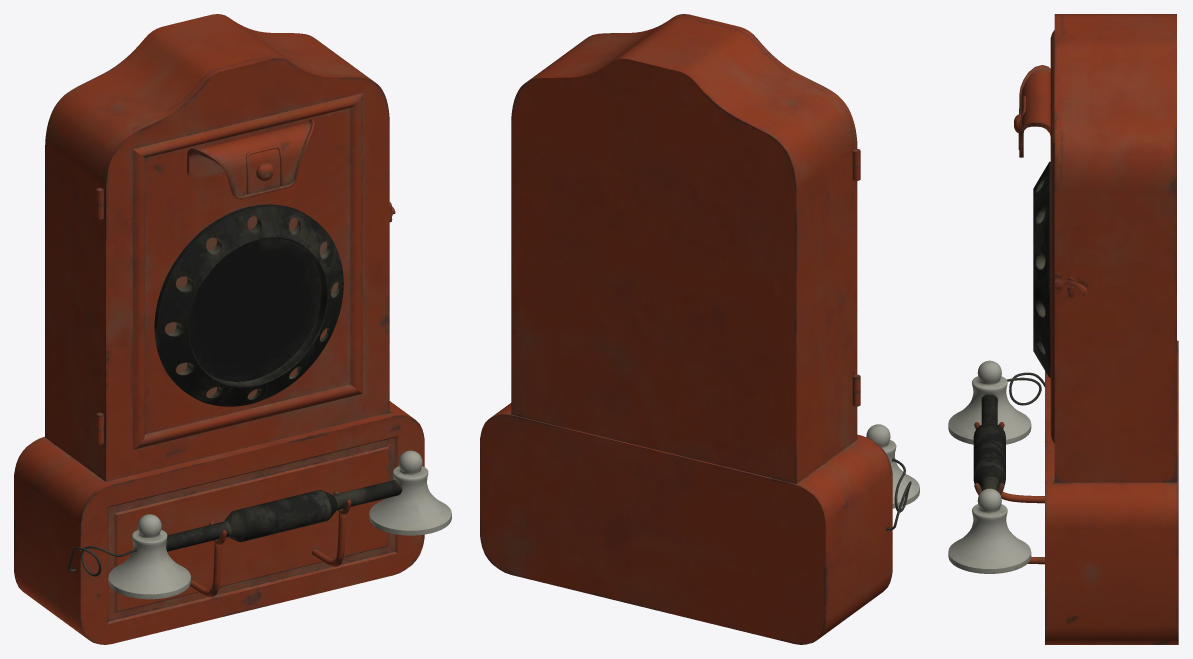
Rendered from vintage_telephone_wall_clock.gltf.
3 views of the same model, side by side, from view 1: azimuth 30°, elevation 25°; view 2: azimuth 150°, elevation 25°; view 3: azimuth 270°, elevation 25° (orthographic).
Parts seen in each view (by area): view 1: vintage_telephone_wall_clock; view 2: vintage_telephone_wall_clock; view 3: vintage_telephone_wall_clock.
Part boxes in pixels (x1,y1,x2,y2): vintage_telephone_wall_clock: [14, 14, 451, 644]; vintage_telephone_wall_clock: [480, 14, 919, 644]; vintage_telephone_wall_clock: [948, 14, 1178, 644].
Size of the model in its own units: 0.3428 by 0.5012 by 0.1926.
Materials: 2 (2 with a texture image).
